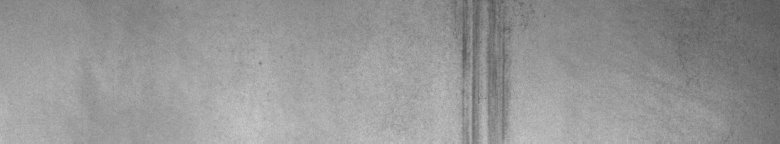ka: (448, 4, 524, 136)
